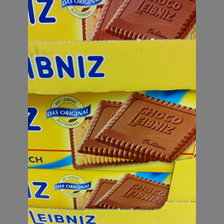chocolate: (31, 90, 196, 168), (28, 1, 196, 42), (28, 167, 166, 210)
